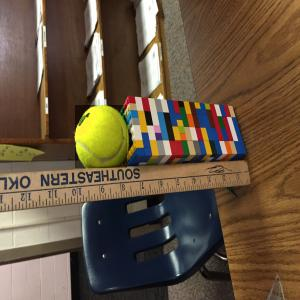TennisBall: (76, 106, 129, 170)
